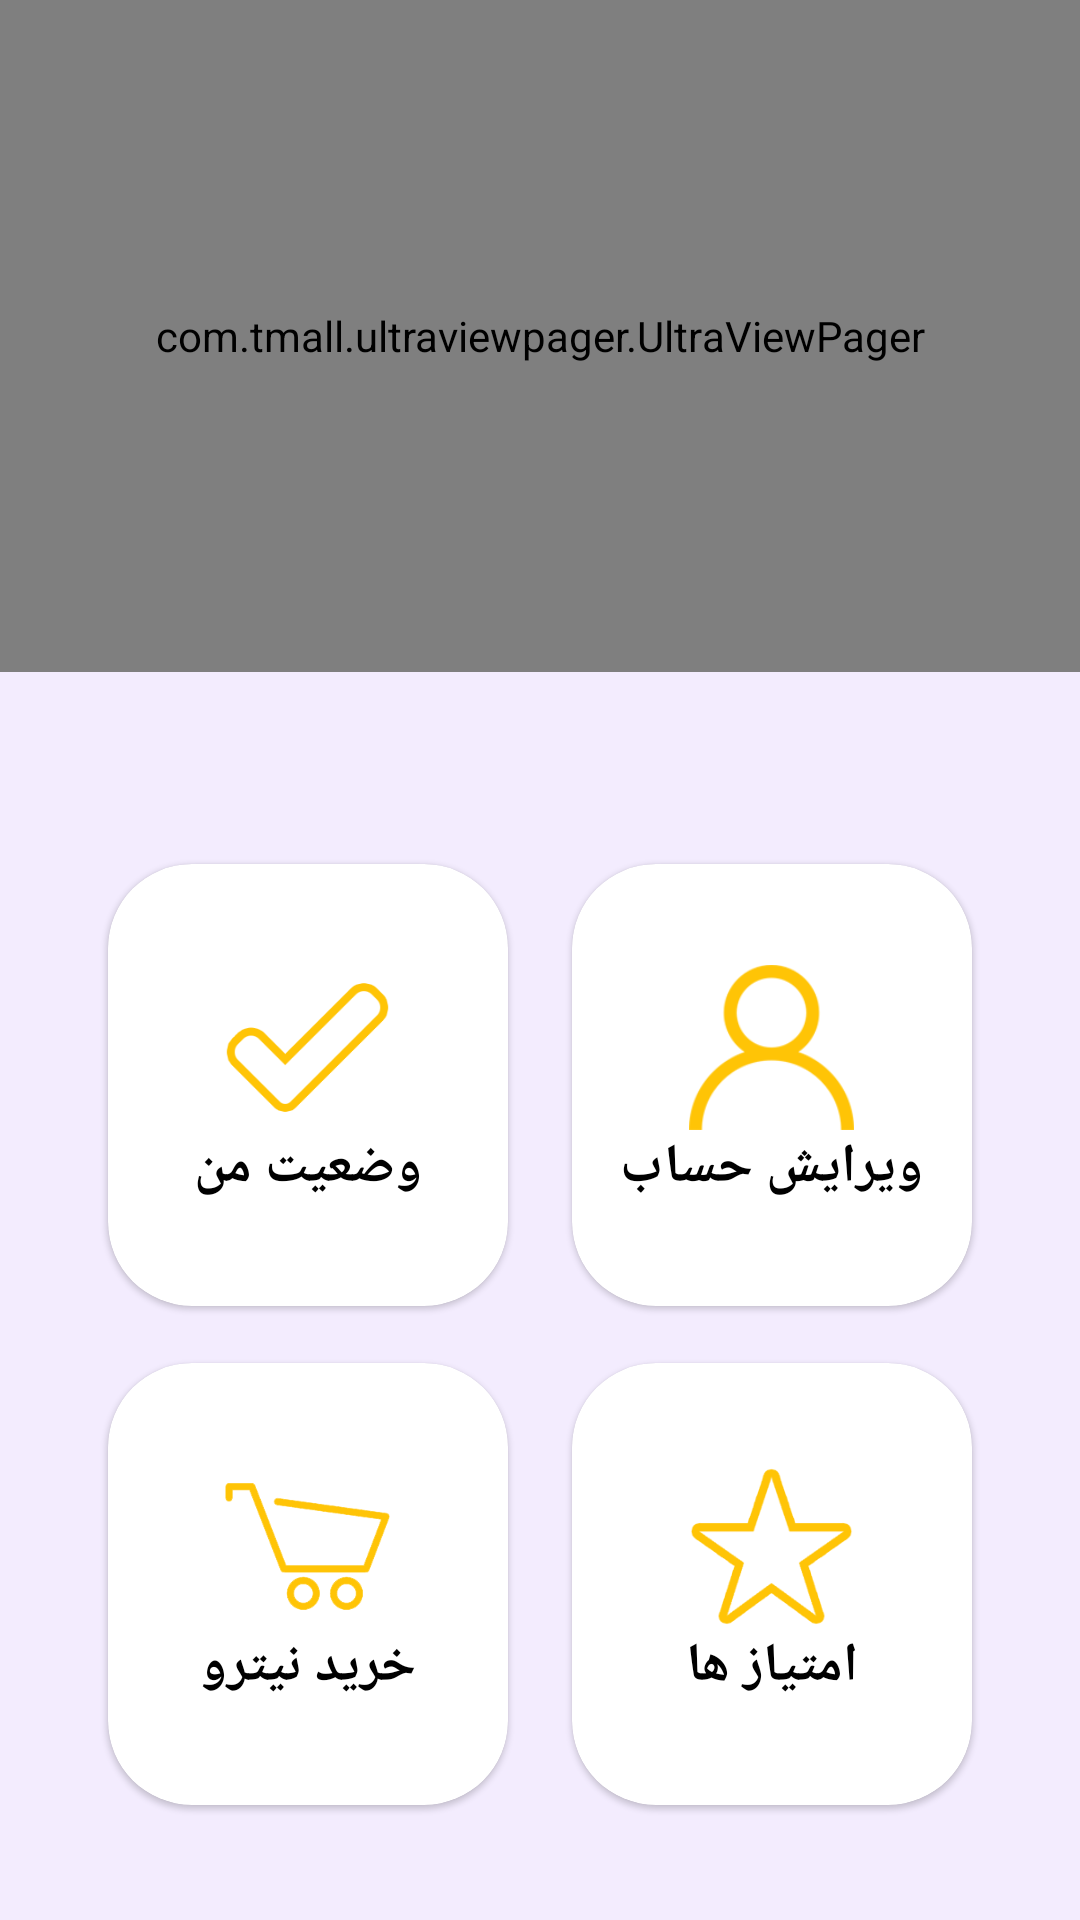

Locate icon controls on the screen. Image size 1080 x 1920, boxes as detection(x1, y1, x2, y2).
cart: detection(225, 1483, 390, 1610)
tick: detection(226, 983, 389, 1112)
user: detection(689, 965, 854, 1130)
